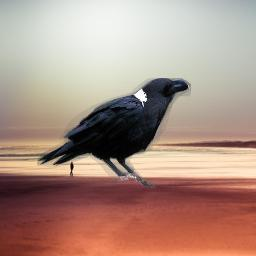Crow: (37, 78, 191, 189)
